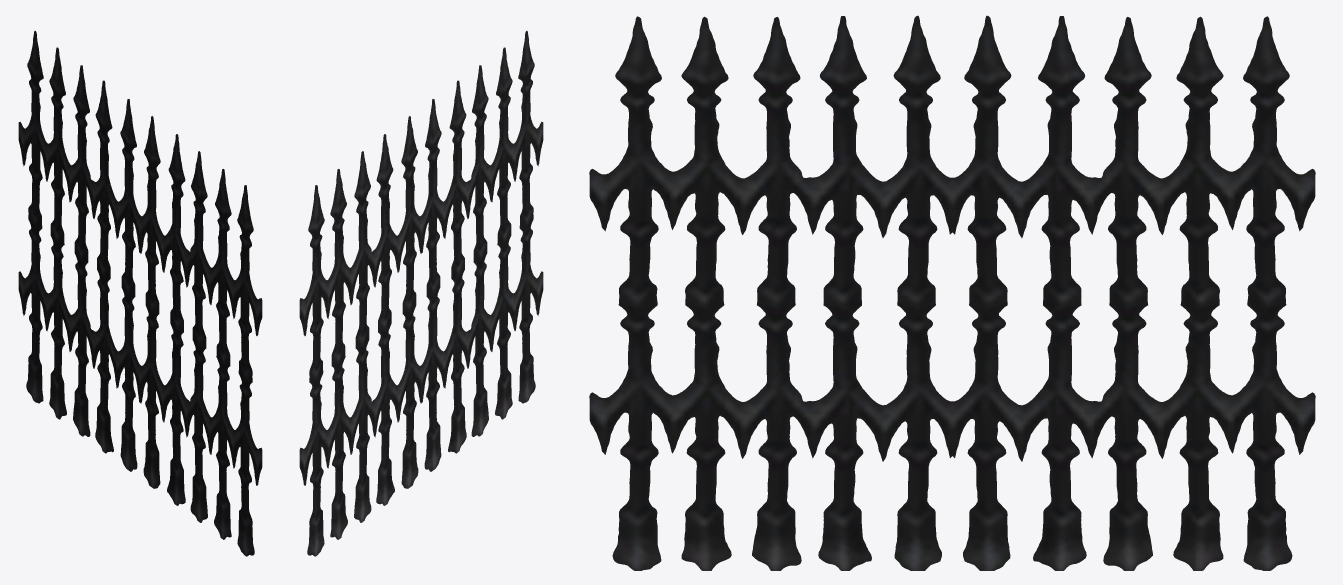
The model's file is blsd_tiezhalang_01.FBX.
3 views of the same model, side by side, from view 1: azimuth 30°, elevation 25°; view 2: azimuth 150°, elevation 25°; view 3: azimuth 270°, elevation 25° (orthographic). The views are drawn at different scales.
Visible parts, largest first — view 1: blsd_tiezhalang_01; view 2: blsd_tiezhalang_01; view 3: blsd_tiezhalang_01.
Part boxes in pixels (x1,y1,x2,y2): blsd_tiezhalang_01: (18,31,262,556); blsd_tiezhalang_01: (299,31,543,556); blsd_tiezhalang_01: (589,15,1315,570).
Size of the model in its own units: 0.5527 by 213 by 261.
